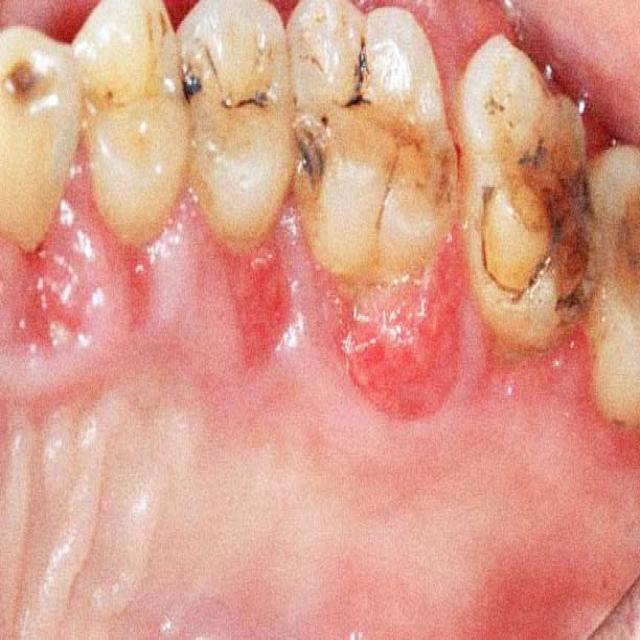caries: (477, 88, 594, 314), (389, 110, 466, 217), (2, 49, 66, 131), (328, 34, 388, 120), (294, 101, 348, 193), (602, 180, 640, 308), (216, 70, 279, 140), (169, 33, 216, 123), (94, 65, 130, 124), (138, 4, 172, 62)
